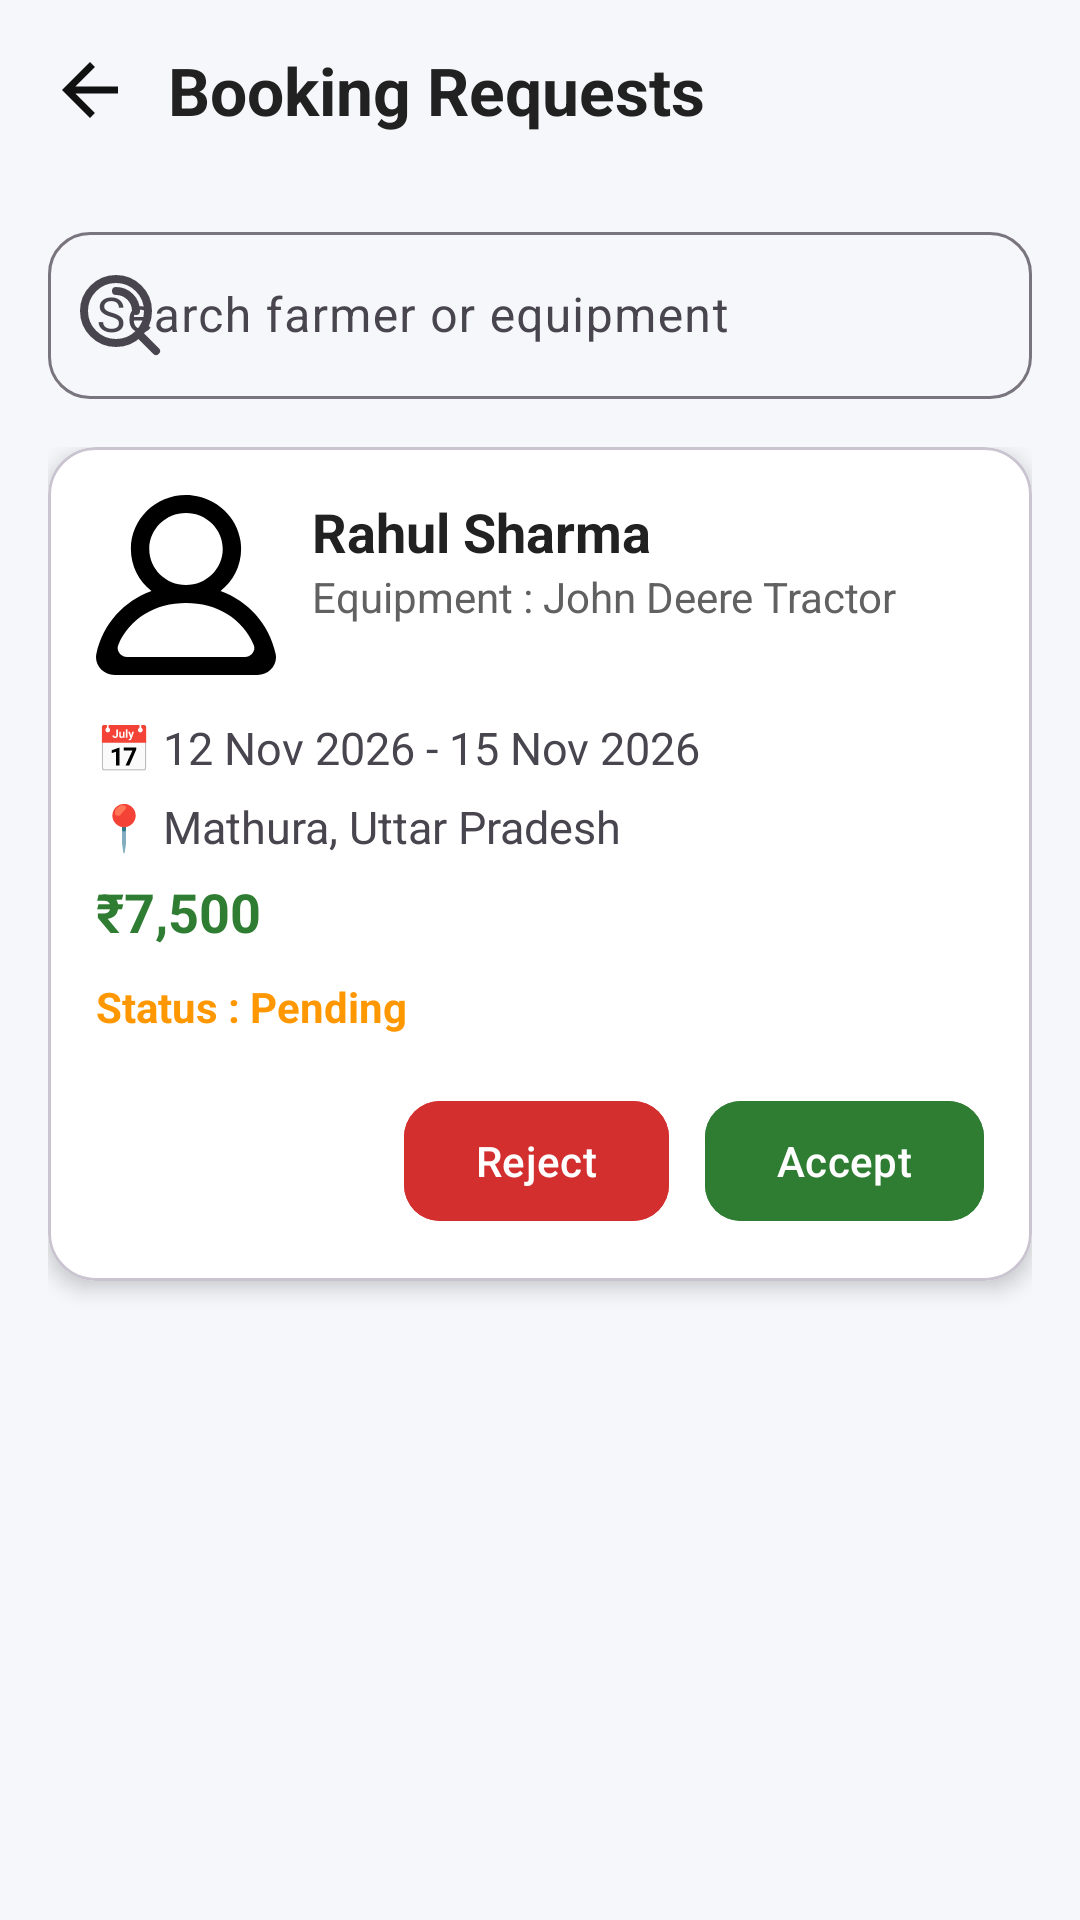

Icons on this 1080px x 1920px Android screen, each with its box as Rect(x1, y1, x2, y2):
arrow back: Rect(62, 62, 118, 118)
profile round: Rect(96, 495, 276, 675)
